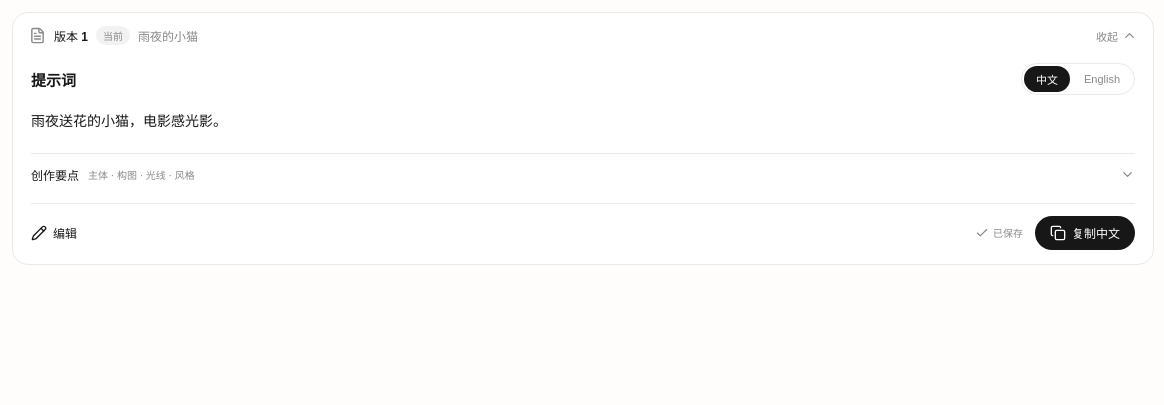
Test: version-specific creation result › edits only the chosen language and sends the effective revision and unchanged other language
This screenshot has width=1164, height=405.
Click the tab "English". click: [1102, 79]
box: x1=1072 y1=66 x2=1132 y2=92
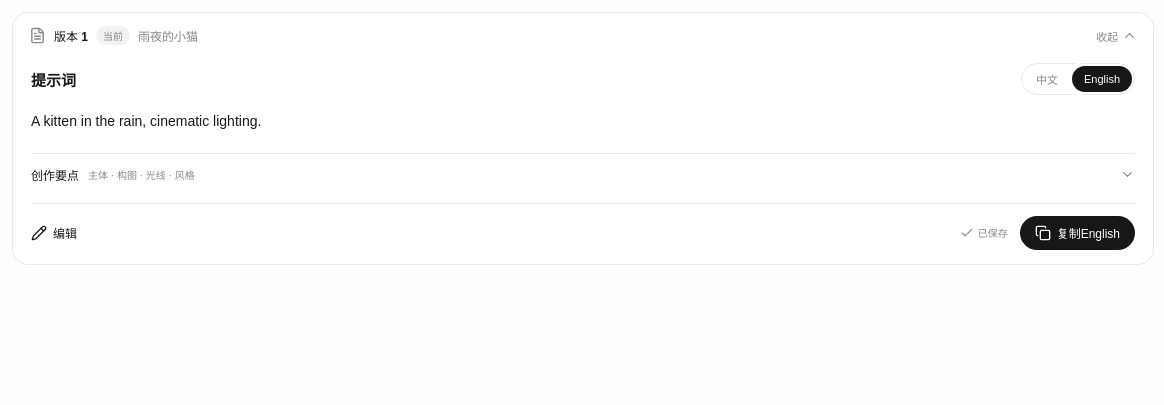
Click the button "编辑". click: [54, 233]
box: x1=31 y1=216 x2=77 y2=250
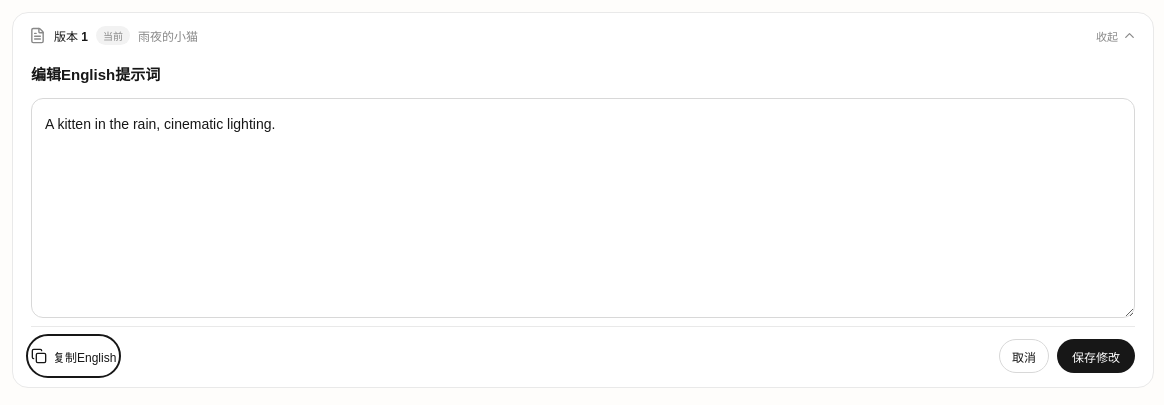
Now the text box named "编辑English提示词" holds "A kitten in the rain, cinematic lighting."
Replace the text in the text box named "编辑English提示词" with "Updated English prompt". click: [583, 208]
box: x1=31 y1=98 x2=1135 y2=318
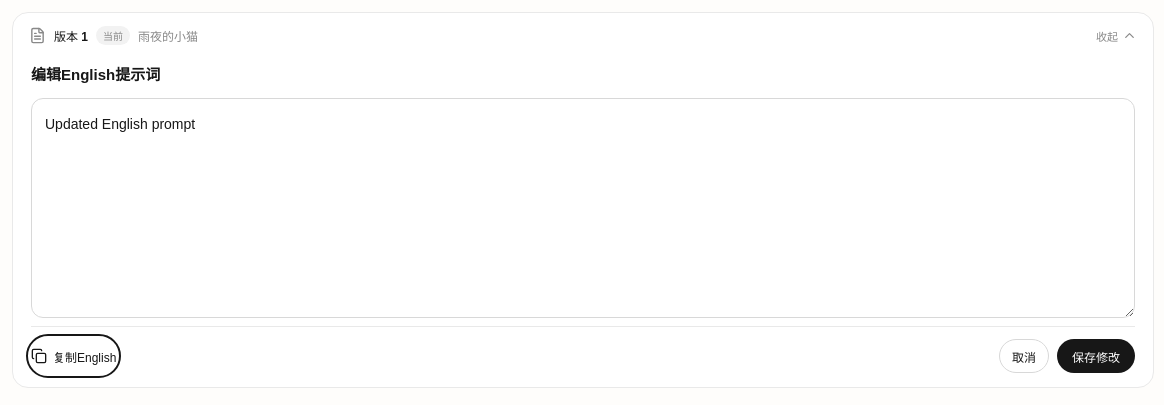
Click the button "保存修改". click: [1096, 356]
box: x1=1057 y1=339 x2=1135 y2=373
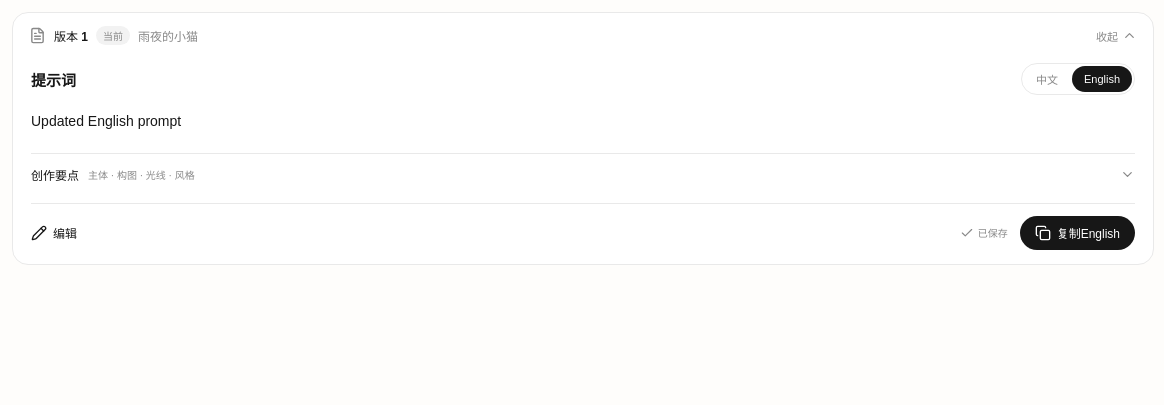
Now the text "Updated English prompt" is shown, box x1=31 y1=113 x2=181 y2=129
